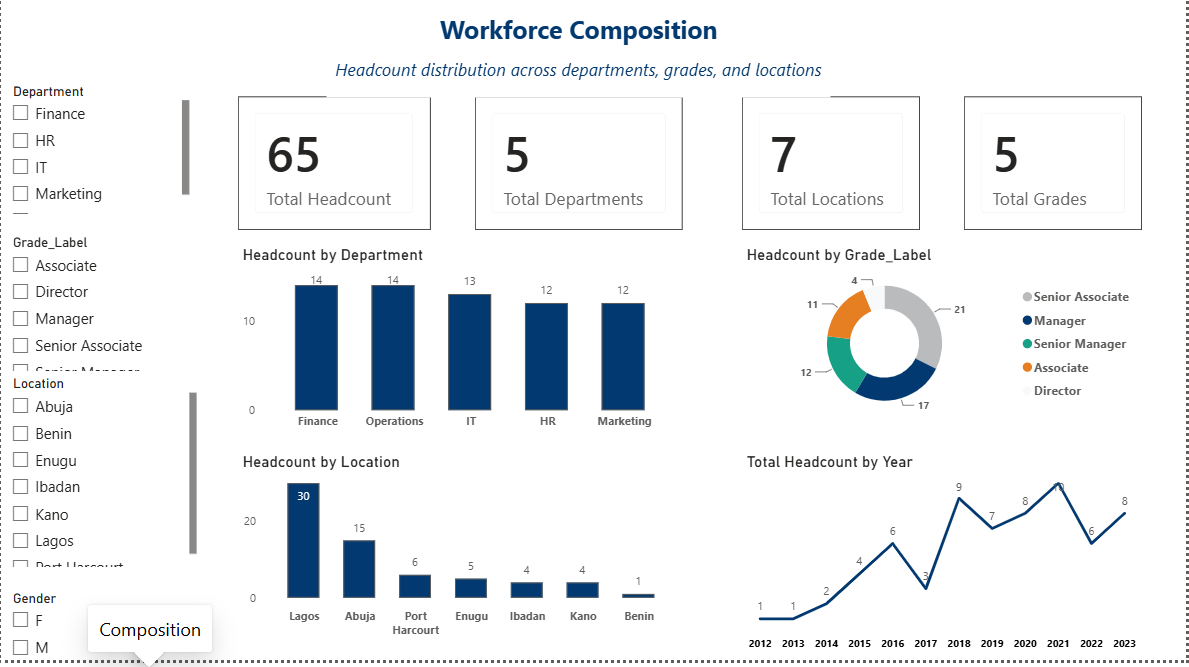

What the dashboard file says about the page in this screenshot:
{"tool":"powerbi","page":{"name":"Composition","canvas":[1280,720],"ordinal":1},"visuals":[{"type":"cardVisual","fields":{"Data":["Measure.Total Headcount"]},"box":[256,112,208,144],"z":0},{"type":"cardVisual","fields":{"Data":["Measure.Total Departments"]},"box":[512,112,224,144],"z":1000},{"type":"cardVisual","fields":{"Data":["Measure.Total Locations"]},"box":[800,112,192,144],"z":2000},{"type":"cardVisual","fields":{"Data":["Measure.Total Grades"]},"box":[1040,112,192,144],"z":3000},{"type":"clusteredColumnChart","title":"Headcount by Department","fields":{"Category":["Staff_Records.Department"],"Y":["Measure.Total Headcount"]},"box":[256,272,480,208],"z":4000},{"type":"donutChart","title":"Headcount by Grade_Label","fields":{"Category":["Staff_Records.Grade_Label"],"Y":["Measure.Total Headcount"]},"box":[800,272,432,192],"z":5000},{"type":"clusteredColumnChart","title":"Headcount by Location","fields":{"Y":["Measure.Total Headcount"],"Category":["Staff_Records.Location"]},"box":[256,496,480,208],"z":6000},{"type":"textbox","box":[96,16,1056,64],"z":7000},{"type":"textbox","box":[352,64,544,48],"z":8000},{"type":"lineChart","fields":{"Category":["Staff_Records.Date_Joined.Variation.Date Hierarchy.Year"],"Y":["Measure.Total Headcount"]},"box":[800,496,432,224],"z":9000},{"type":"slicer","fields":{"Values":["Staff_Records.Department"]},"box":[0,93,208,150],"z":10000},{"type":"slicer","fields":{"Values":["Staff_Records.Grade_Label"]},"box":[0,256,208,256],"z":11000},{"type":"slicer","fields":{"Values":["Staff_Records.Location"]},"box":[0,408,216,216],"z":12000},{"type":"slicer","fields":{"Values":["Staff_Records.Gender"]},"box":[0,640,128,80],"z":13000}]}

Visuals, with their boxes on the page's 1280x720 design canvas (x1, y1, x2, y2). These are canvas units, not pixel positions in the 1189x667 screenshot, which may show the page scaled, cropped or inside an application window:
cardVisual - Measure.Total Headcount: pyautogui.locateOnScreen(256, 112, 464, 256)
cardVisual - Measure.Total Departments: pyautogui.locateOnScreen(512, 112, 736, 256)
cardVisual - Measure.Total Locations: pyautogui.locateOnScreen(800, 112, 992, 256)
cardVisual - Measure.Total Grades: pyautogui.locateOnScreen(1040, 112, 1232, 256)
"Headcount by Department" clusteredColumnChart: pyautogui.locateOnScreen(256, 272, 736, 480)
"Headcount by Grade_Label" donutChart: pyautogui.locateOnScreen(800, 272, 1232, 464)
"Headcount by Location" clusteredColumnChart: pyautogui.locateOnScreen(256, 496, 736, 704)
textbox: pyautogui.locateOnScreen(96, 16, 1152, 80)
textbox: pyautogui.locateOnScreen(352, 64, 896, 112)
lineChart - Staff_Records.Date_Joined.Variation.Date Hierarchy.Year x Measure.Total Headcount: pyautogui.locateOnScreen(800, 496, 1232, 720)
slicer - Staff_Records.Department: pyautogui.locateOnScreen(0, 93, 208, 243)
slicer - Staff_Records.Grade_Label: pyautogui.locateOnScreen(0, 256, 208, 512)
slicer - Staff_Records.Location: pyautogui.locateOnScreen(0, 408, 216, 624)
slicer - Staff_Records.Gender: pyautogui.locateOnScreen(0, 640, 128, 720)
